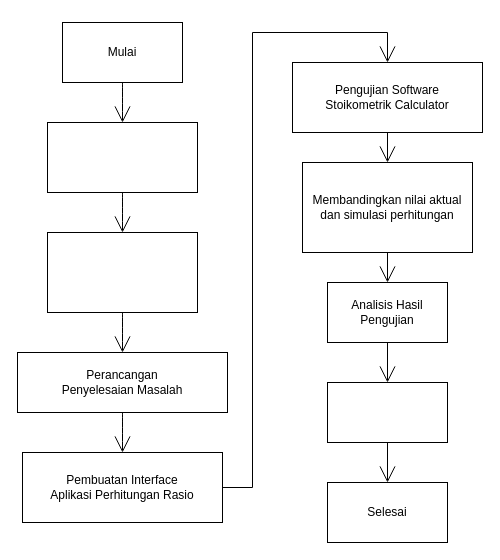
This 500x560 diagram has some shape labels left out. The box of each missing label's shape, as (x1, y1, x2, y2) in pixels:
Evaluasi Hasil: (326, 382, 448, 442)
Observasi/Identifikasi masalah: (46, 122, 198, 192)
Wawancara dengan Engineer Maintenance Instrument: (46, 232, 198, 312)
